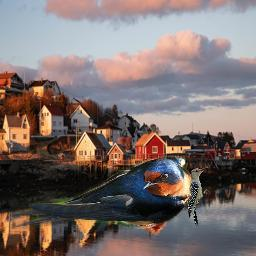Swallow: (9, 155, 193, 229)
Woodpecker: (187, 166, 209, 229)
